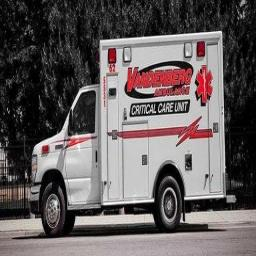Ambulance: (30, 32, 224, 235)
